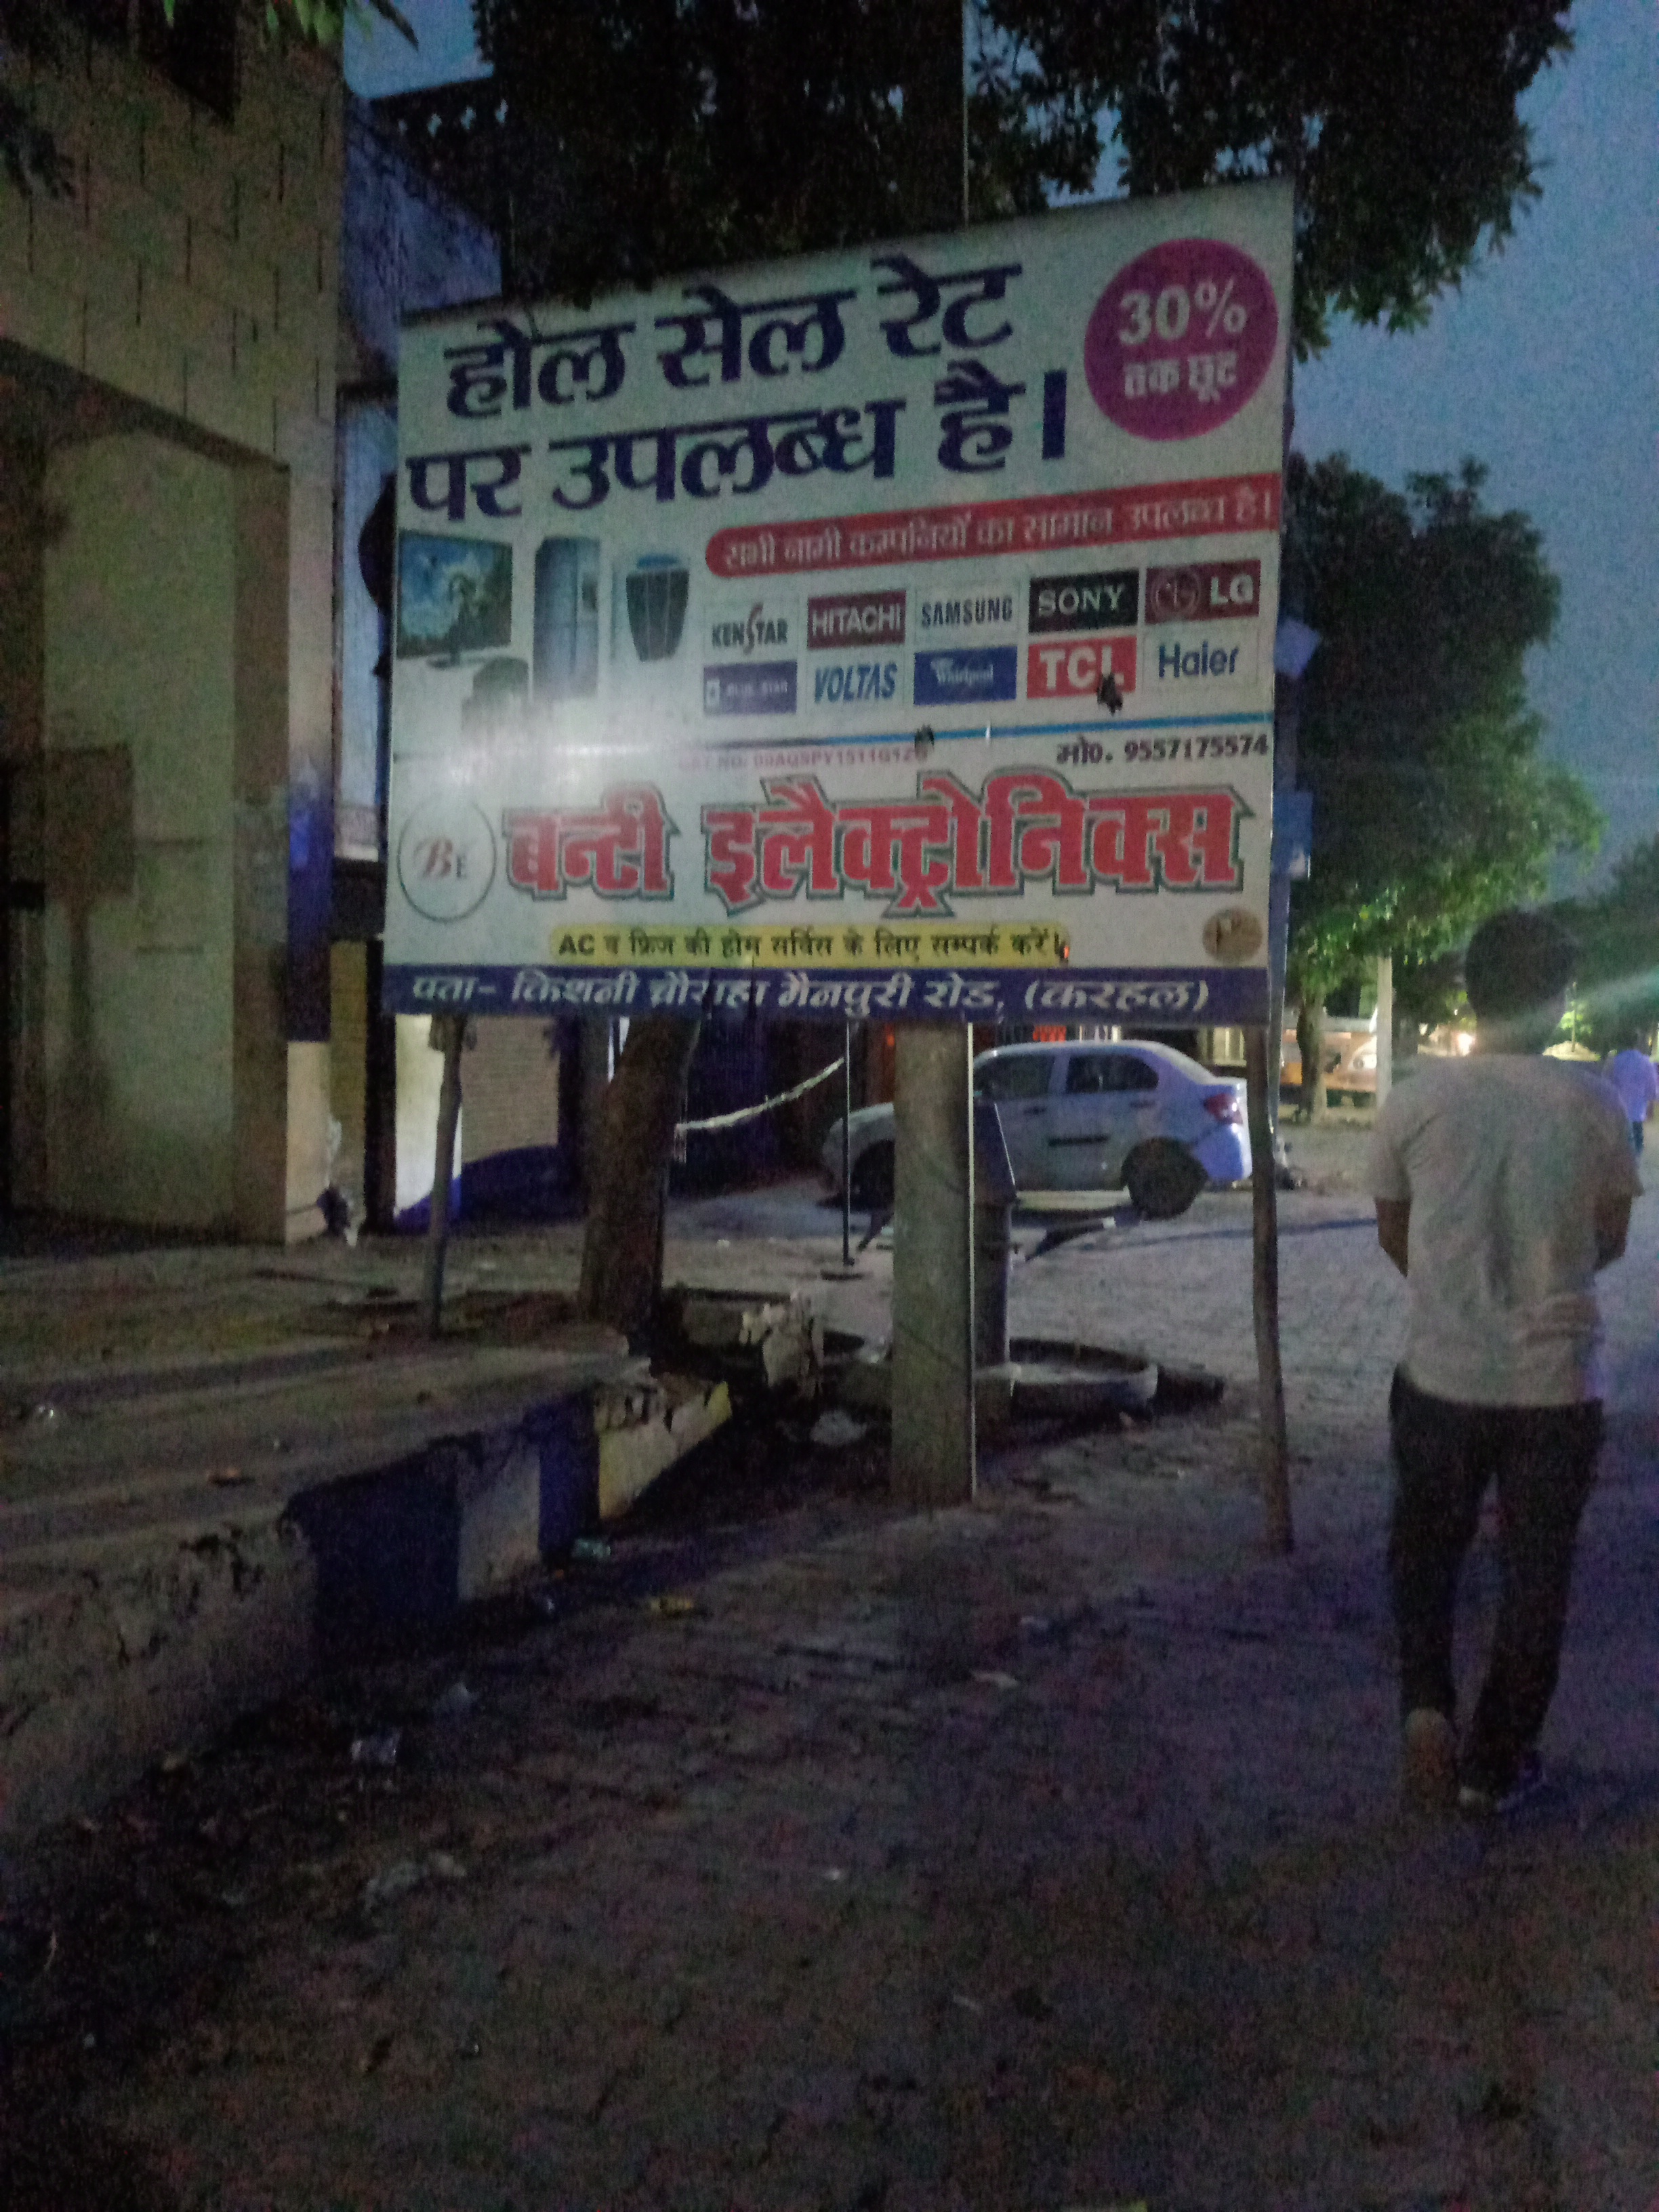text: (392, 186, 1293, 1029)
